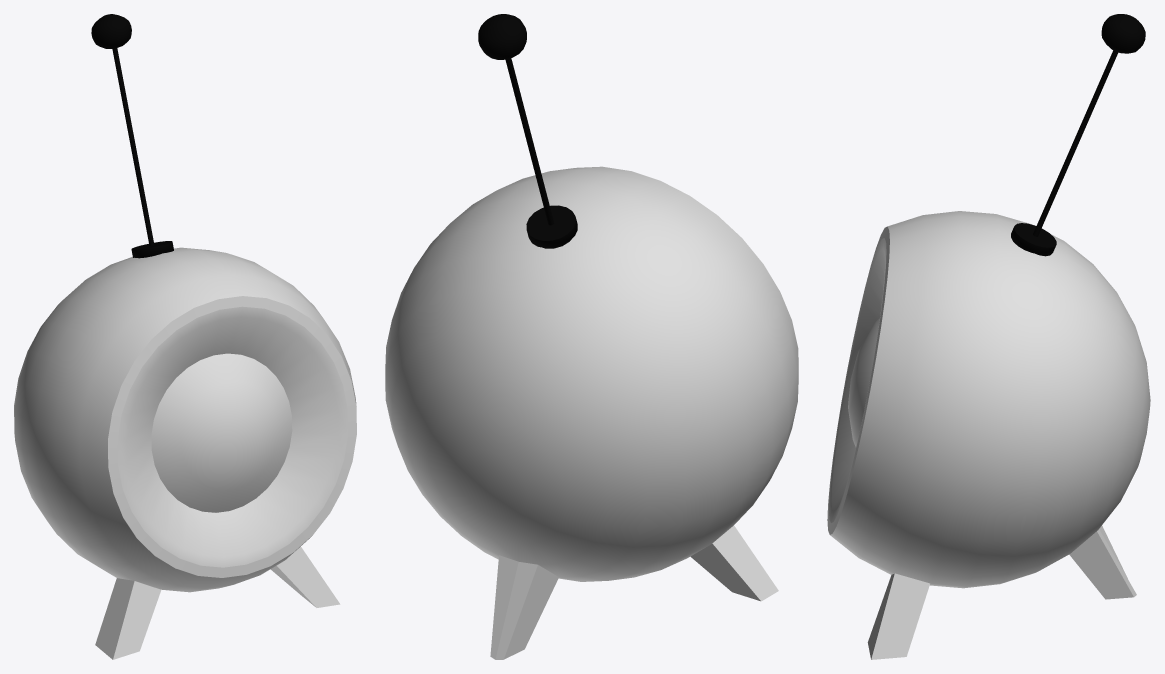
Rendered from Radio.fbx.
3 renders of one model, left to right at view 1: azimuth 30°, elevation 25°; view 2: azimuth 150°, elevation 25°; view 3: azimuth 270°, elevation 25°, orthographic. The views are drawn at different scales.
Parts seen in each view (by area): view 1: Speaker (×2), Centre, LED, Antenna; view 2: Speaker, Antenna; view 3: Speaker (×2), Antenna, Centre, LED.
Boxes of the visible parts, <box> form: Speaker (×2): <box>14,247,356,659</box>; Centre: <box>151,353,292,512</box>; LED: <box>108,296,356,577</box>; Antenna: <box>91,14,173,258</box>; Speaker: <box>385,166,798,659</box>; Antenna: <box>478,14,577,248</box>; Speaker (×2): <box>828,211,1150,659</box>; Antenna: <box>1011,14,1145,256</box>; Centre: <box>848,317,879,447</box>; LED: <box>827,226,889,534</box>.
Size of the model in its own units: 0.6921 by 1.18 by 0.5917.
1 material, 1 textured.
